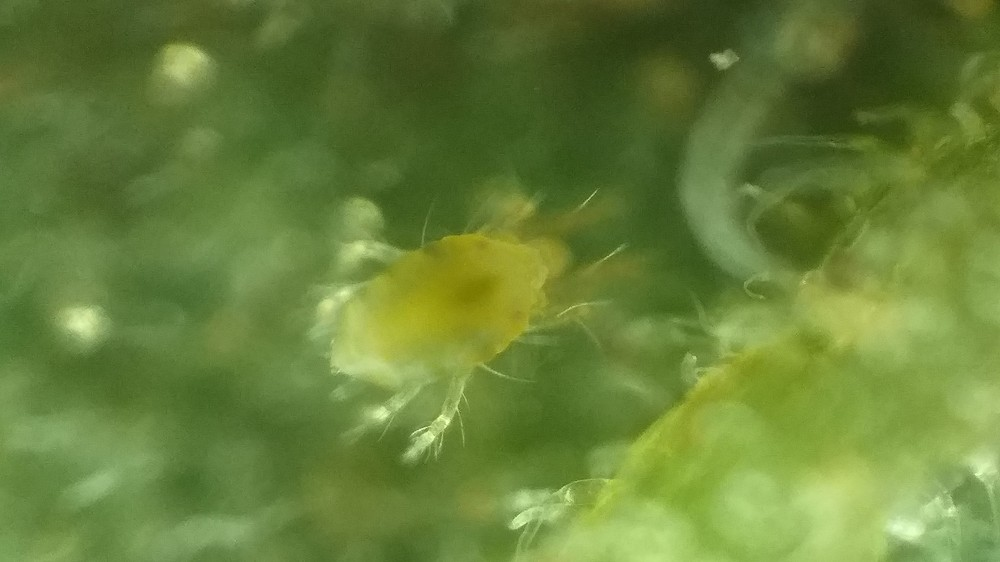Aracnido Rojo: (281, 171, 721, 464)
